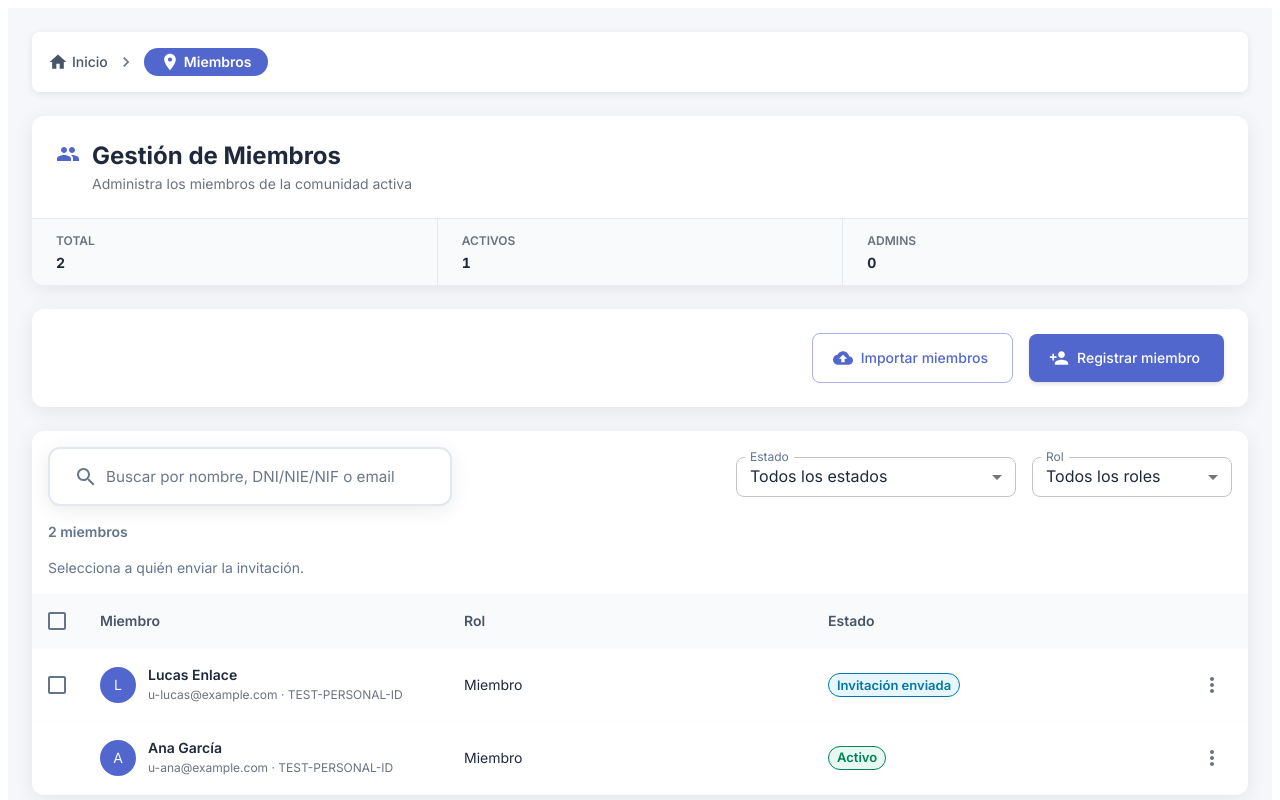
Test: inviting from the roster › UI-MBR-014 says when another resend becomes possible, from the Retry-After header
This screenshot has width=1280, height=800.
Expected: the text "Ana García" is shown, [148,739,222,756]
Click the button named "Más acciones para Lucas Enlace": click(1212, 685) [1195,668,1229,702]
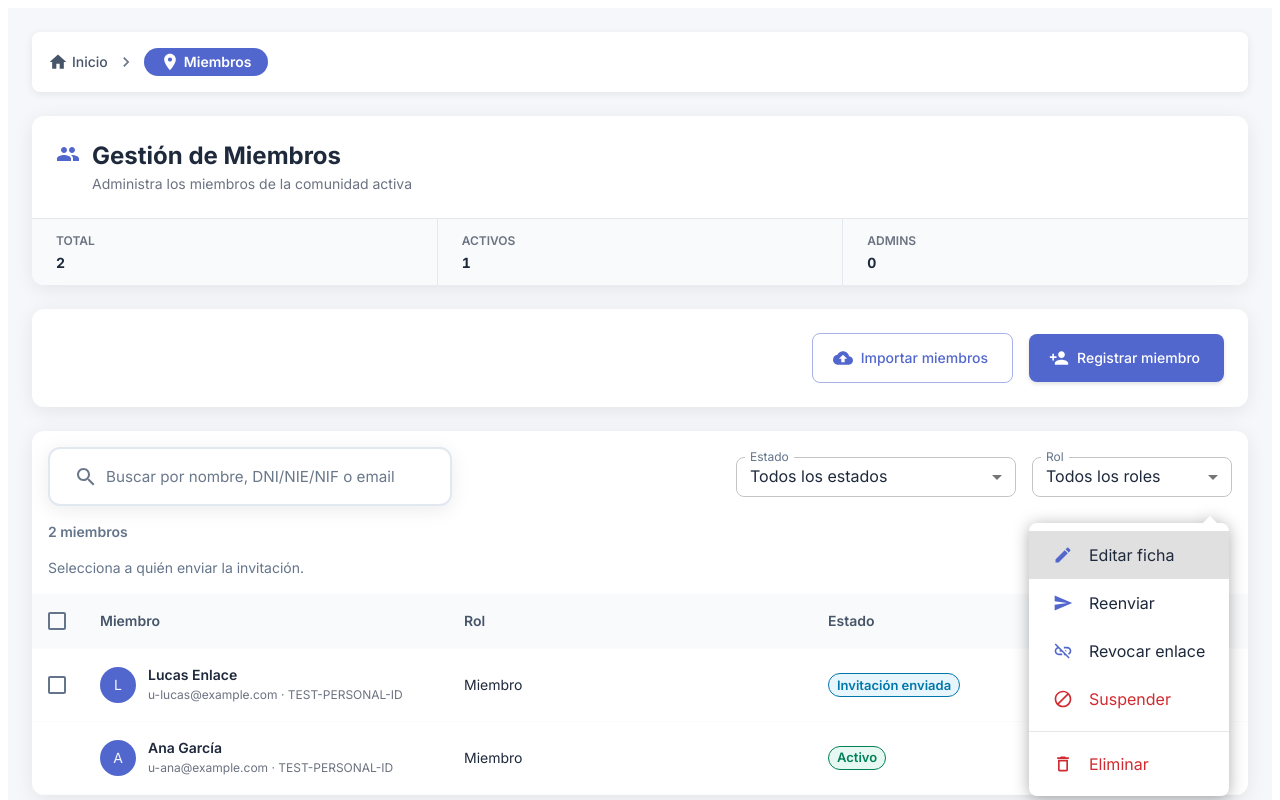
Click the menu item "Reenviar": click(1104, 603) [1053,593,1155,613]
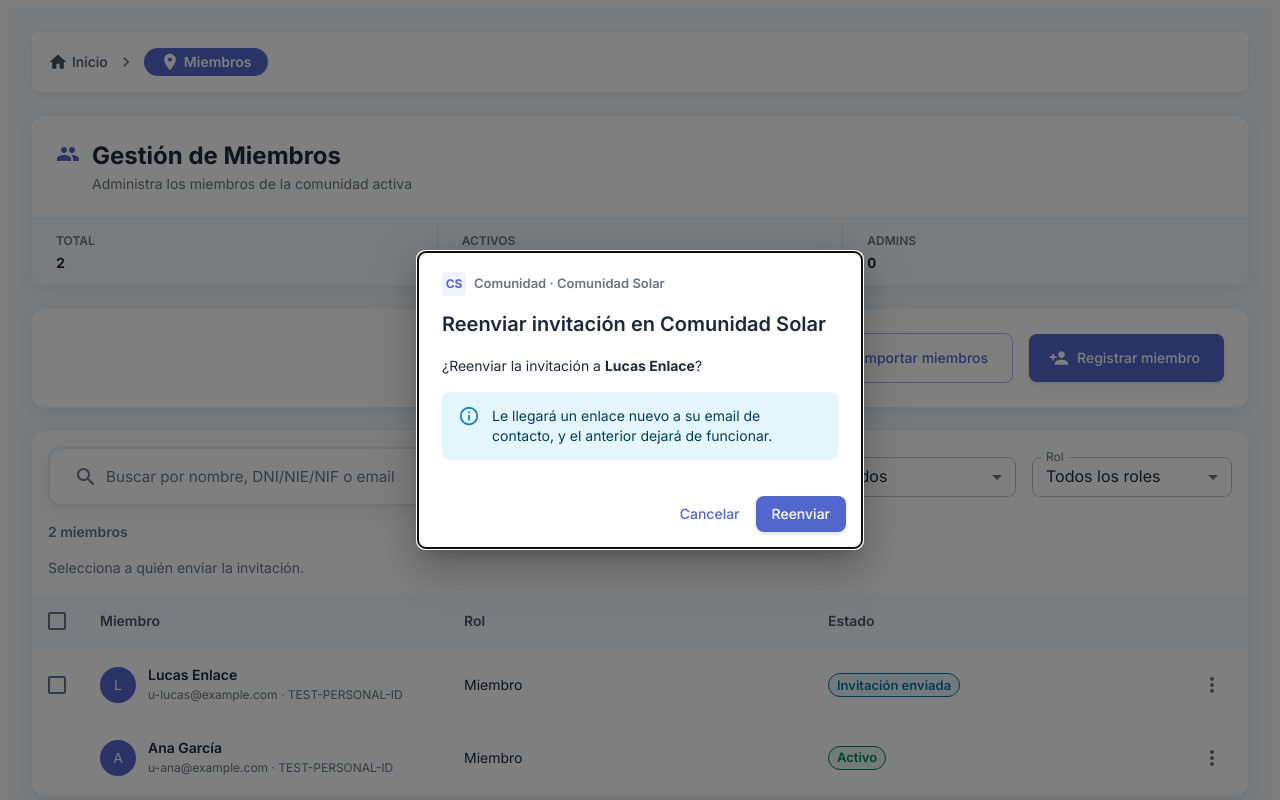
Click the button "Reenviar": click(801, 514) [756,496,846,532]
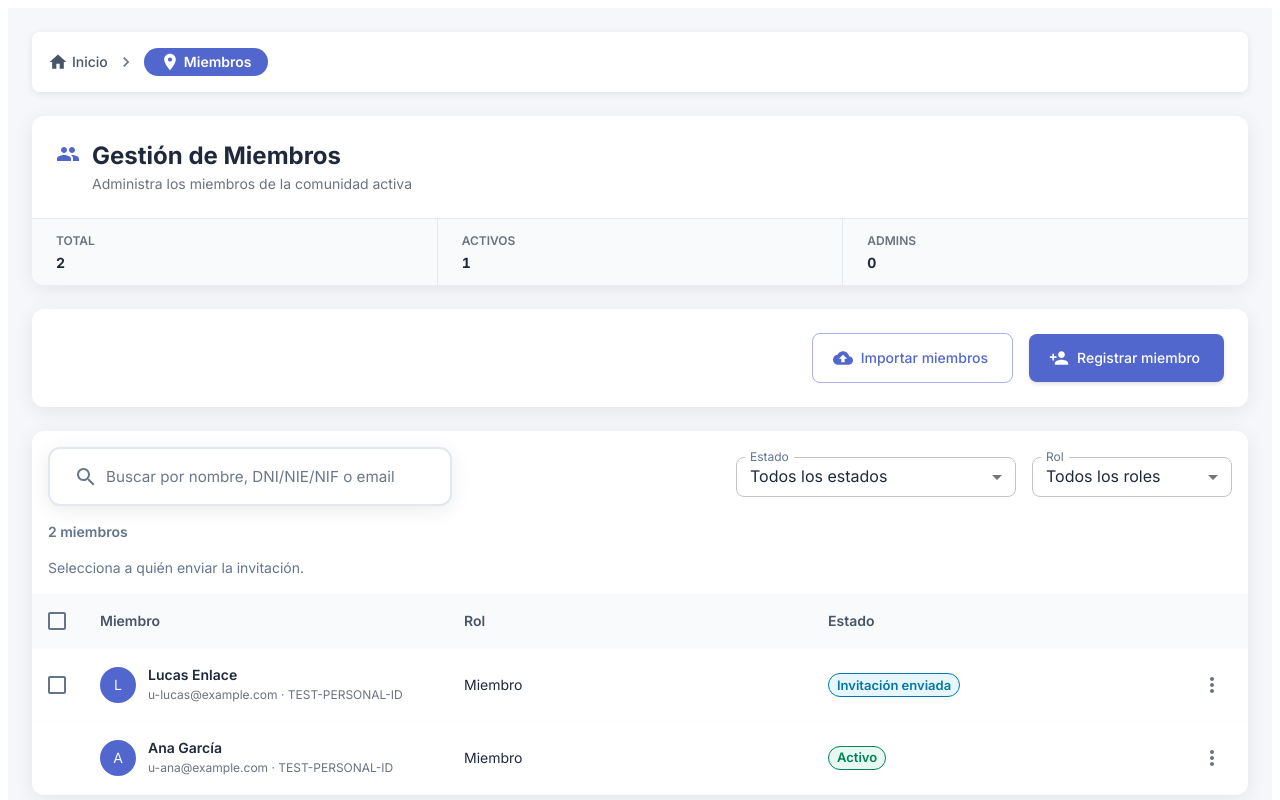
Now the dialog is gone
